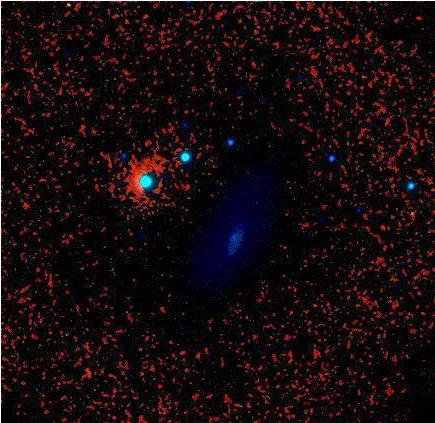star: (413, 356, 435, 386)
